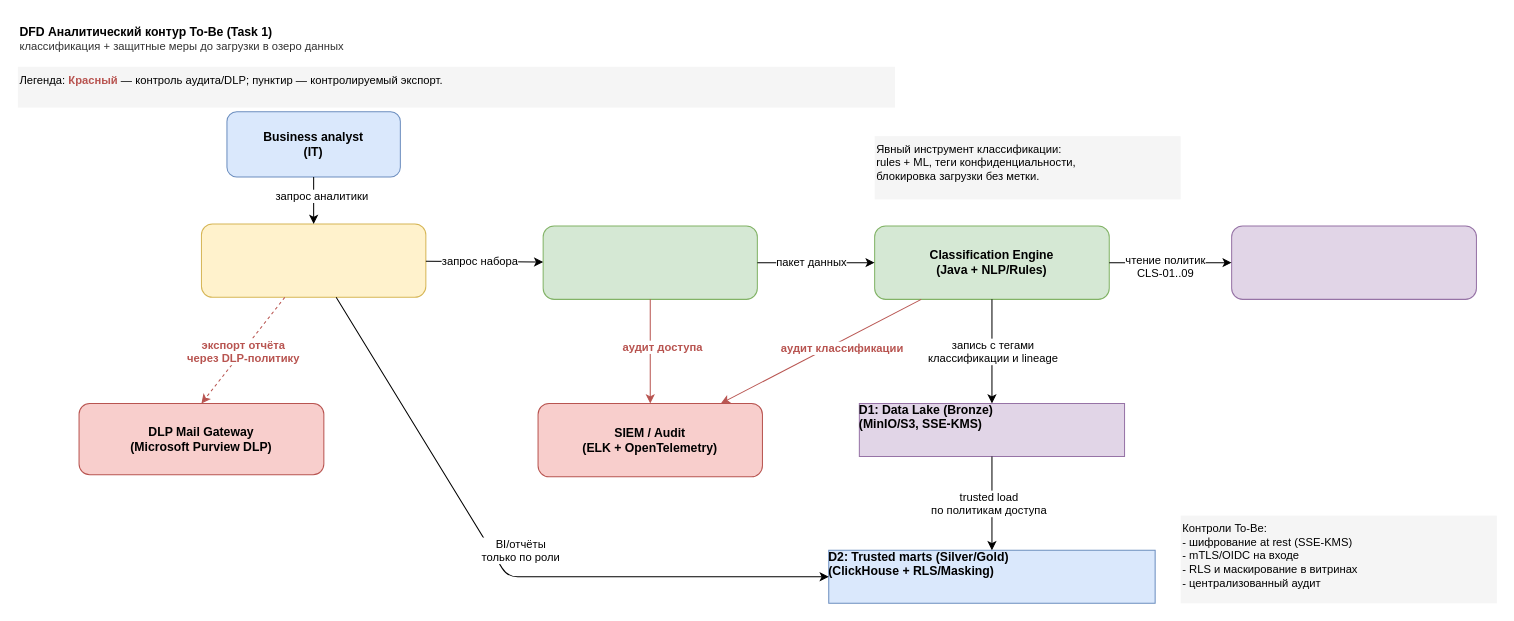
Image size: 1514x621. Some labels were removed from this diagram. The shapes that lost their labels are listed below. From the top down, each one's box as (x1, y1, x2, y2) in pixels, then its label:
(200, 223, 426, 297): A.0 Подготовка отчётов (To-Be)
(542, 225, 757, 299): Ingestion API (mTLS + OIDC)
(1231, 225, 1476, 299): Policy & Tag Catalog (OPA + Data Catalog)
